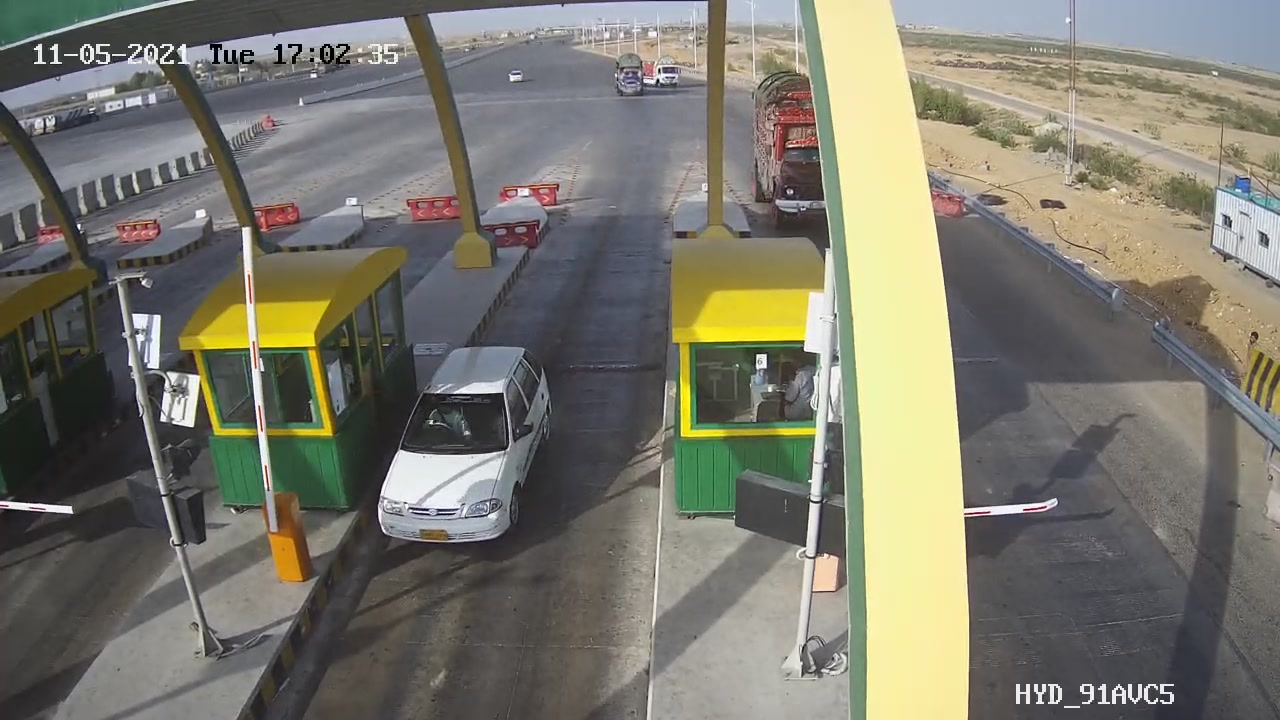F1: (368, 325, 581, 570)
